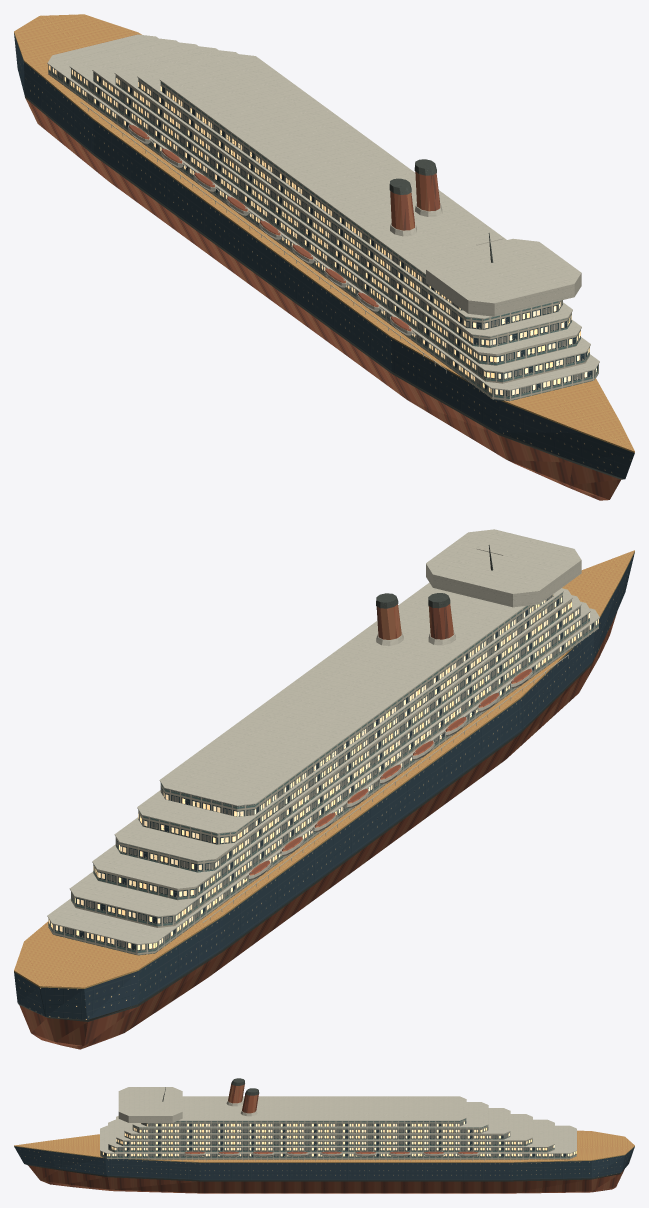
Rendered from copperwake-mid.glb.
The picture shows the model from 3 angles, top to bottom: view 1: azimuth 30°, elevation 25°; view 2: azimuth 150°, elevation 25°; view 3: azimuth 270°, elevation 25°; orthographic projection. The views are drawn at different scales.
Parts seen in each view (by area): view 1: superstructure, hull, funnels_and_rigging; view 2: superstructure, hull, funnels_and_rigging; view 3: superstructure, hull, funnels_and_rigging.
Boxes of the visible parts, box(x1,y1,x2,y2) form: superstructure: box(47, 34, 599, 401); hull: box(14, 14, 634, 500); funnels_and_rigging: box(389, 159, 503, 262); superstructure: box(47, 529, 599, 955); hull: box(14, 550, 634, 1049); funnels_and_rigging: box(376, 545, 503, 645); superstructure: box(100, 1087, 576, 1159); hull: box(14, 1130, 634, 1193); funnels_and_rigging: box(162, 1078, 259, 1116).
Size of the model in its own units: 39 by 54.36 by 309.
Materials: 7 (7 with a texture image).
